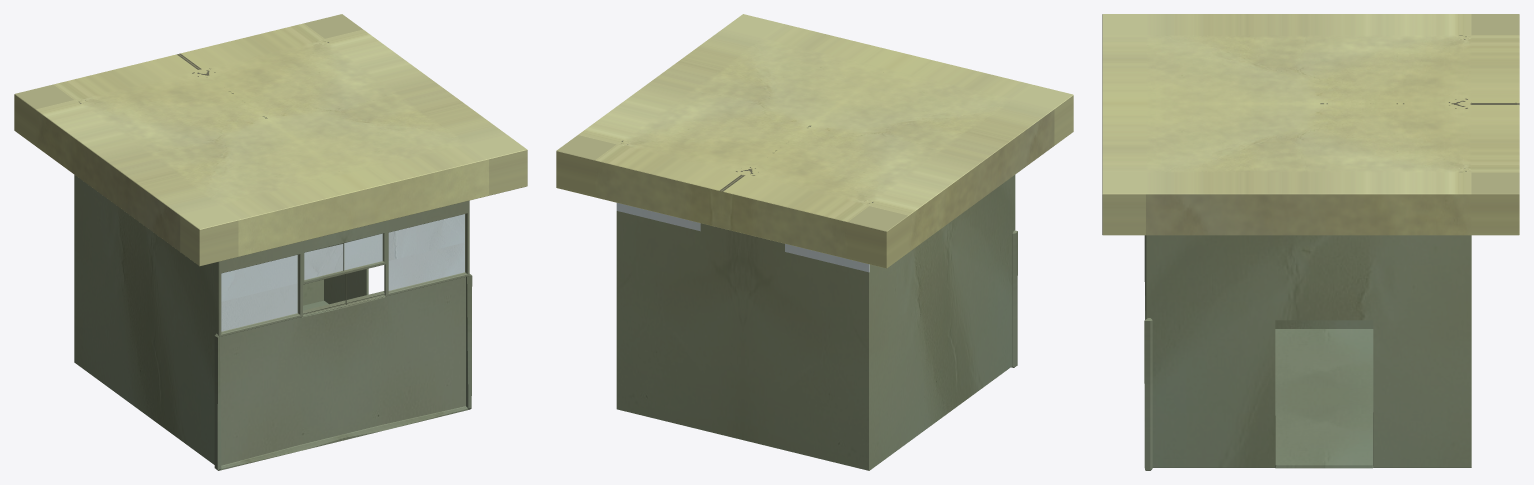
Rendered from kiosk.fbx.
3 renders of one model, left to right at view 1: azimuth 30°, elevation 25°; view 2: azimuth 150°, elevation 25°; view 3: azimuth 270°, elevation 25°, orthographic. The views are drawn at different scales.
Parts seen in each view (by area): view 1: Cube; view 2: Cube; view 3: Cube.
Boxes of the visible parts, x1,y1,x2,y2 form: Cube: (14, 14, 527, 470); Cube: (556, 14, 1073, 470); Cube: (1102, 14, 1519, 470).
Size of the model in its own units: 1253 by 968 by 1227.
Materials: 3 (3 with a texture image).
